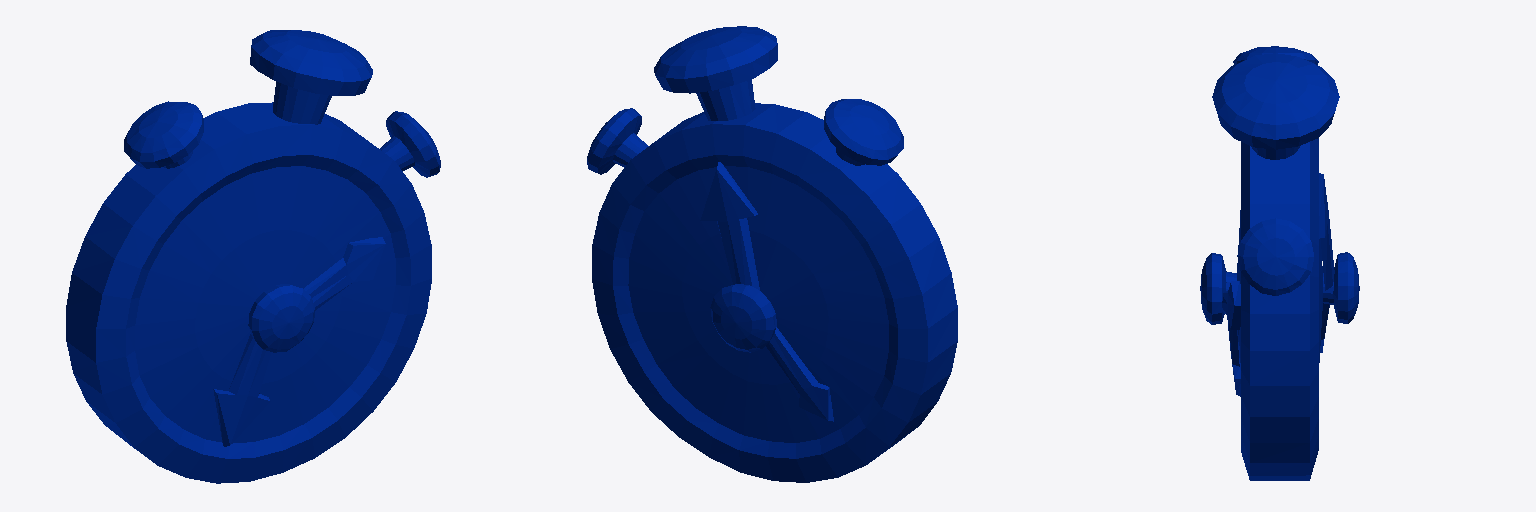
The model's file is stopWatch.obj.
3 renders of one model, left to right at view 1: azimuth 30°, elevation 25°; view 2: azimuth 150°, elevation 25°; view 3: azimuth 270°, elevation 25°, orthographic.
Visible parts, largest first — view 1: Cylinder; view 2: Cylinder; view 3: Cylinder.
Part boxes in pixels (left/top/right/bottom): Cylinder: left=66, top=30, right=440, bottom=483; Cylinder: left=587, top=26, right=957, bottom=482; Cylinder: left=1200, top=46, right=1359, bottom=480.
Bounding box in the file's own units: 0.6896 × 0.7899 × 0.272.